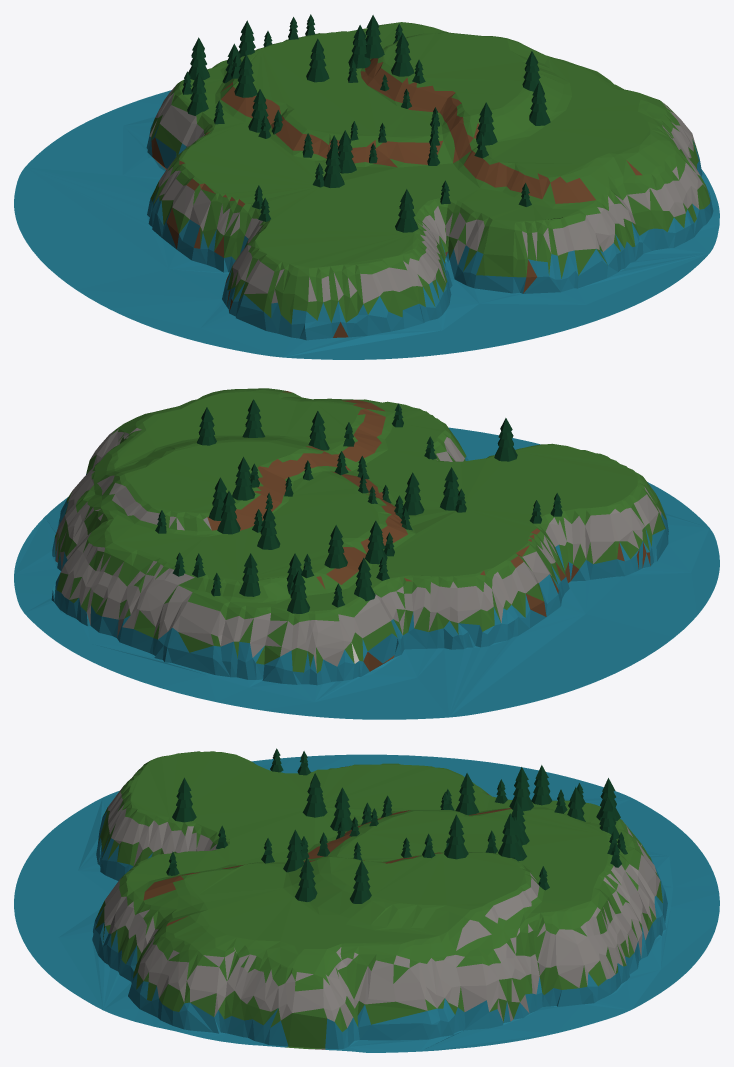
File: Island01.fbx
3 views of the same model, one above another, from view 1: azimuth 30°, elevation 25°; view 2: azimuth 150°, elevation 25°; view 3: azimuth 270°, elevation 25° (orthographic). The views are drawn at different scales.
Parts seen in each view (by area): view 1: Cube; view 2: Cube; view 3: Cube.
Boxes of the visible parts, left/top/right/bottom form: Cube: left=14, top=14, right=719, bottom=359; Cube: left=14, top=388, right=719, bottom=719; Cube: left=14, top=748, right=719, bottom=1052.
Bounding box in the file's own units: 90.52 × 18.3 × 90.51.
